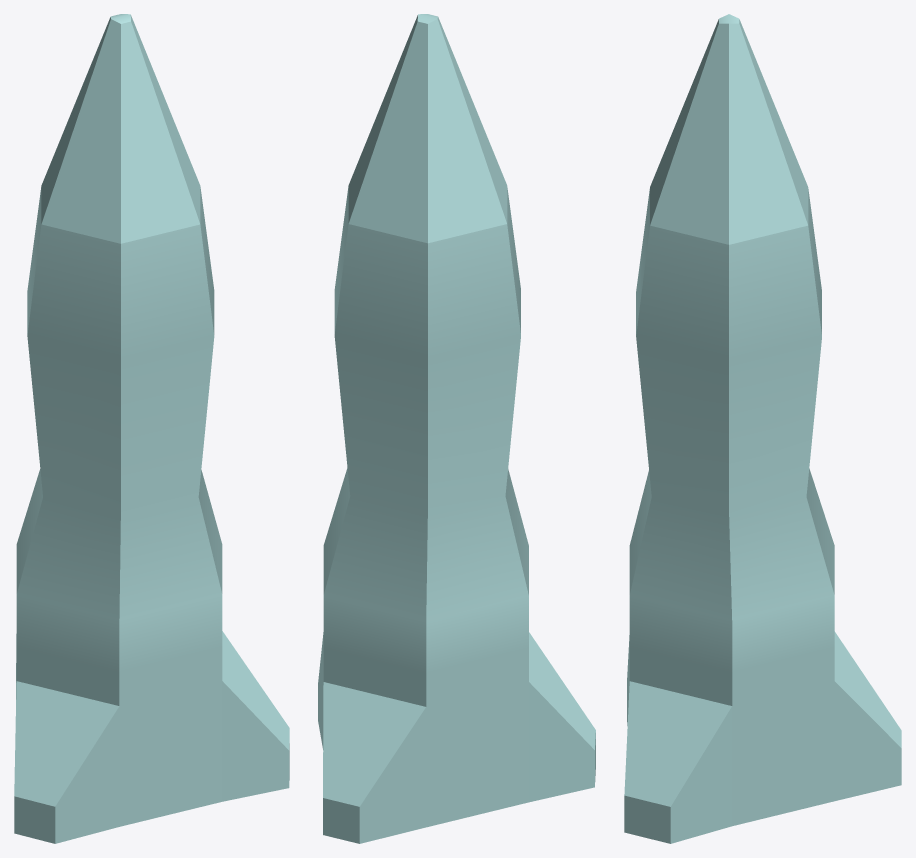
The model's file is proyectil player.fbx.
The picture shows the model from 3 angles, left to right: view 1: azimuth 30°, elevation 25°; view 2: azimuth 150°, elevation 25°; view 3: azimuth 270°, elevation 25°; orthographic projection.
Parts seen in each view (by area): view 1: pCylinder1; view 2: pCylinder1; view 3: pCylinder1.
Boxes of the visible parts, left/top/right/bottom form: pCylinder1: left=14, top=14, right=289, bottom=843; pCylinder1: left=318, top=14, right=595, bottom=843; pCylinder1: left=624, top=14, right=901, bottom=843.
Size of the model in its own units: 1.25 by 3.28 by 1.09.
